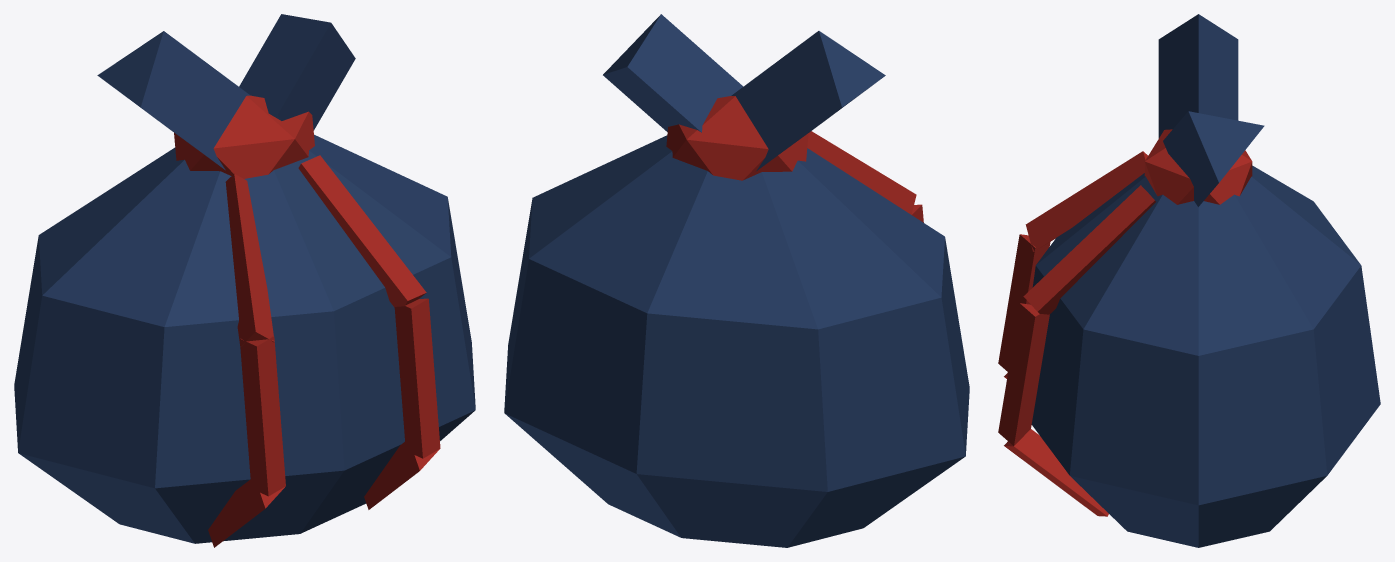
The model's file is S7_travel_bundle_a.glb.
3 renders of one model, left to right at view 1: azimuth 30°, elevation 25°; view 2: azimuth 150°, elevation 25°; view 3: azimuth 270°, elevation 25°, orthographic. The views are drawn at different scales.
Visible parts, largest first — view 1: S7_travel_bundle_a; view 2: S7_travel_bundle_a; view 3: S7_travel_bundle_a.
Part boxes in pixels (x1,y1,x2,y2): S7_travel_bundle_a: (14, 14, 475, 547); S7_travel_bundle_a: (504, 14, 969, 547); S7_travel_bundle_a: (998, 14, 1380, 547).
Bounding box in the file's own units: 0.4526 × 0.46 × 0.3611.
